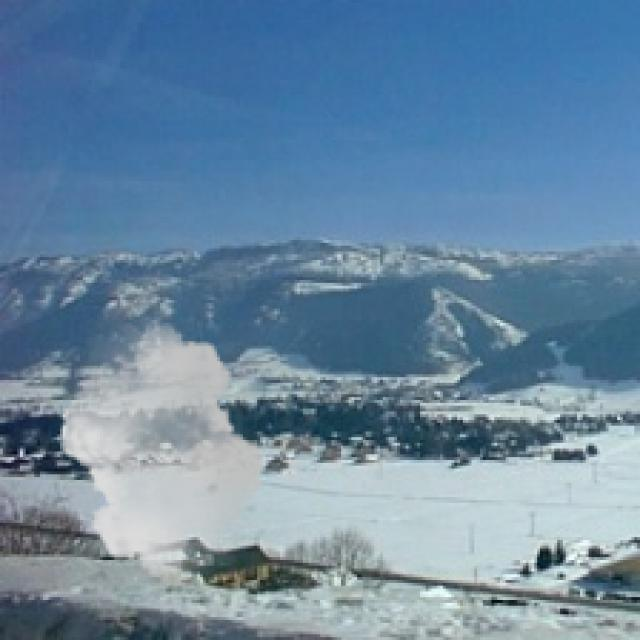Smoke: (51, 317, 272, 583)
